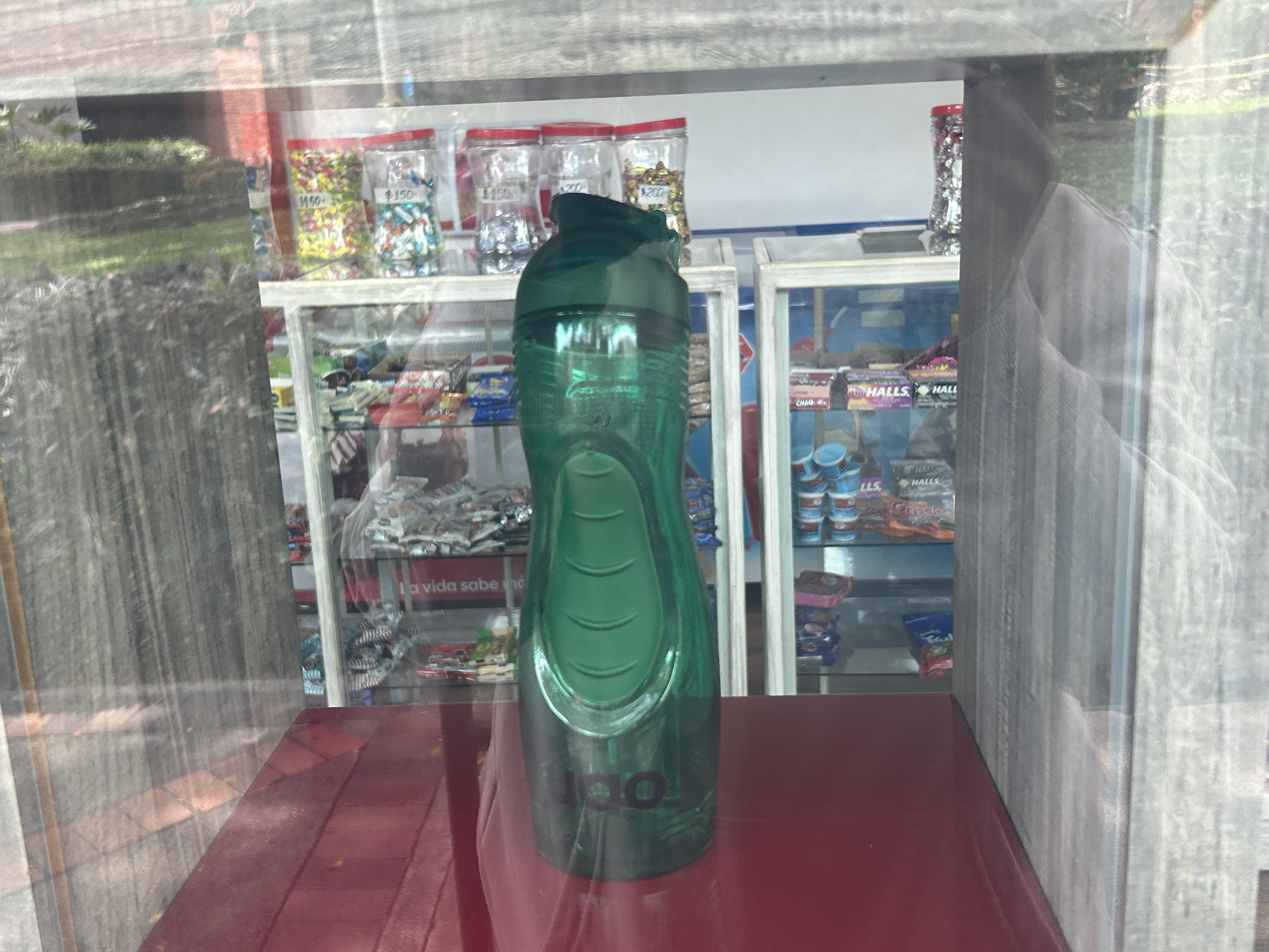termo: (513, 195, 720, 880)
